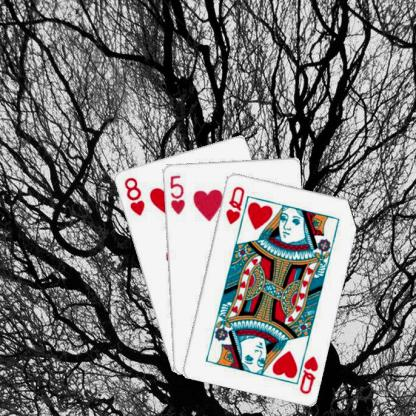5H: (166, 172, 186, 215)
8H: (121, 175, 146, 217)
QH: (292, 346, 319, 394), (223, 183, 245, 225)
